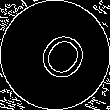O_SW: (22, 22, 88, 88)
